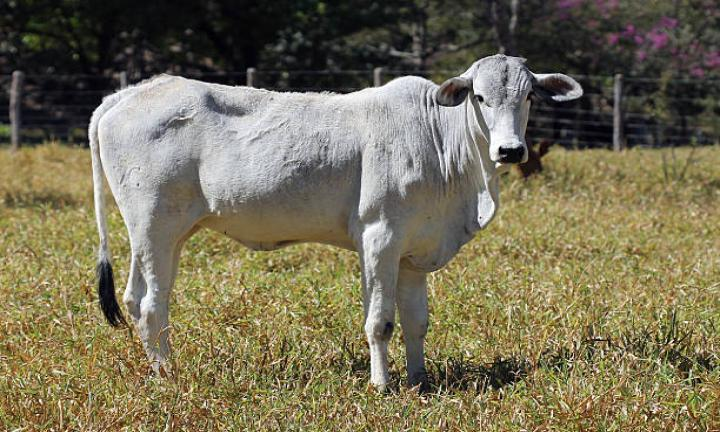Brahman: (88, 55, 581, 384)
